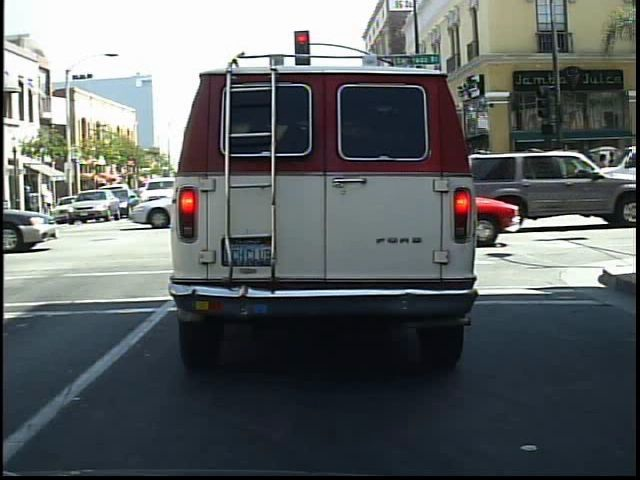person: (599, 142, 623, 209), (538, 151, 562, 209), (513, 156, 535, 207)
